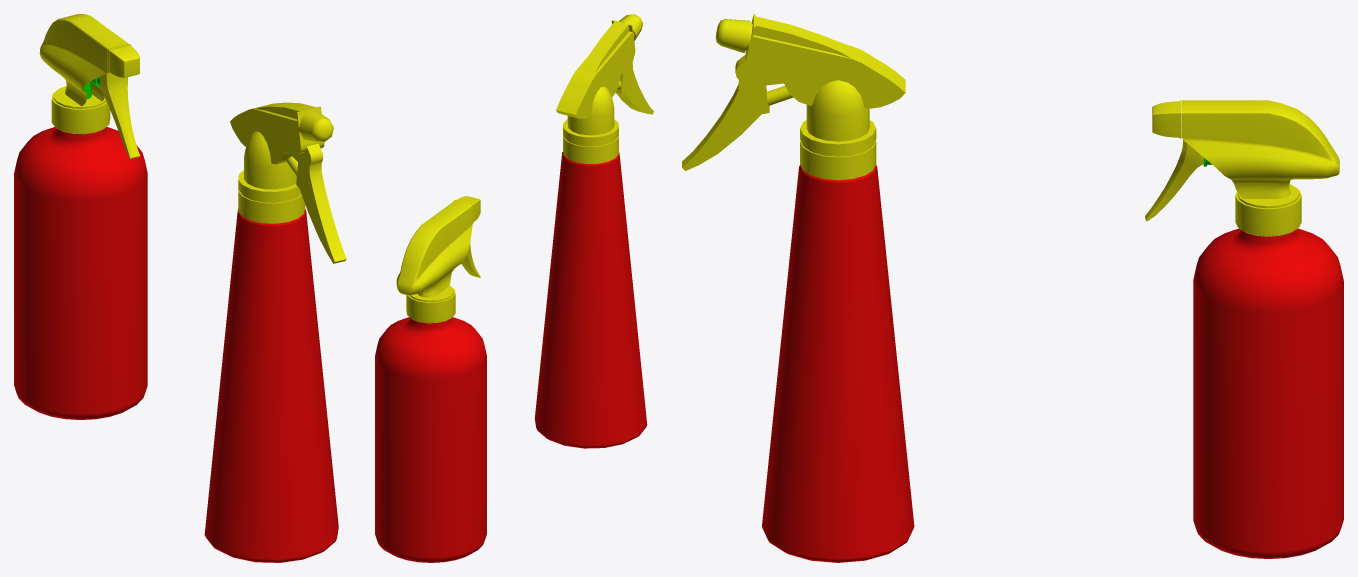
Rendered from thorkea_spray_bottles_grp.fbx.
3 renders of one model, left to right at view 1: azimuth 30°, elevation 25°; view 2: azimuth 150°, elevation 25°; view 3: azimuth 270°, elevation 25°, orthographic. The views are drawn at different scales.
Parts seen in each view (by area): view 1: thorkea_spray_bottle_kramig, thorkea_spray_bottle_1790; view 2: thorkea_spray_bottle_kramig, thorkea_spray_bottle_1790; view 3: thorkea_spray_bottle_kramig, thorkea_spray_bottle_1790.
Boxes of the visible parts, x1,y1,x2,y2 form: thorkea_spray_bottle_kramig: (204,102,346,562); thorkea_spray_bottle_1790: (14,14,147,419); thorkea_spray_bottle_kramig: (534,14,653,448); thorkea_spray_bottle_1790: (375,196,486,562); thorkea_spray_bottle_kramig: (682,14,914,562); thorkea_spray_bottle_1790: (1145,100,1343,558).
Bounding box in the file's own units: 7.09 × 26.33 × 30.75.
